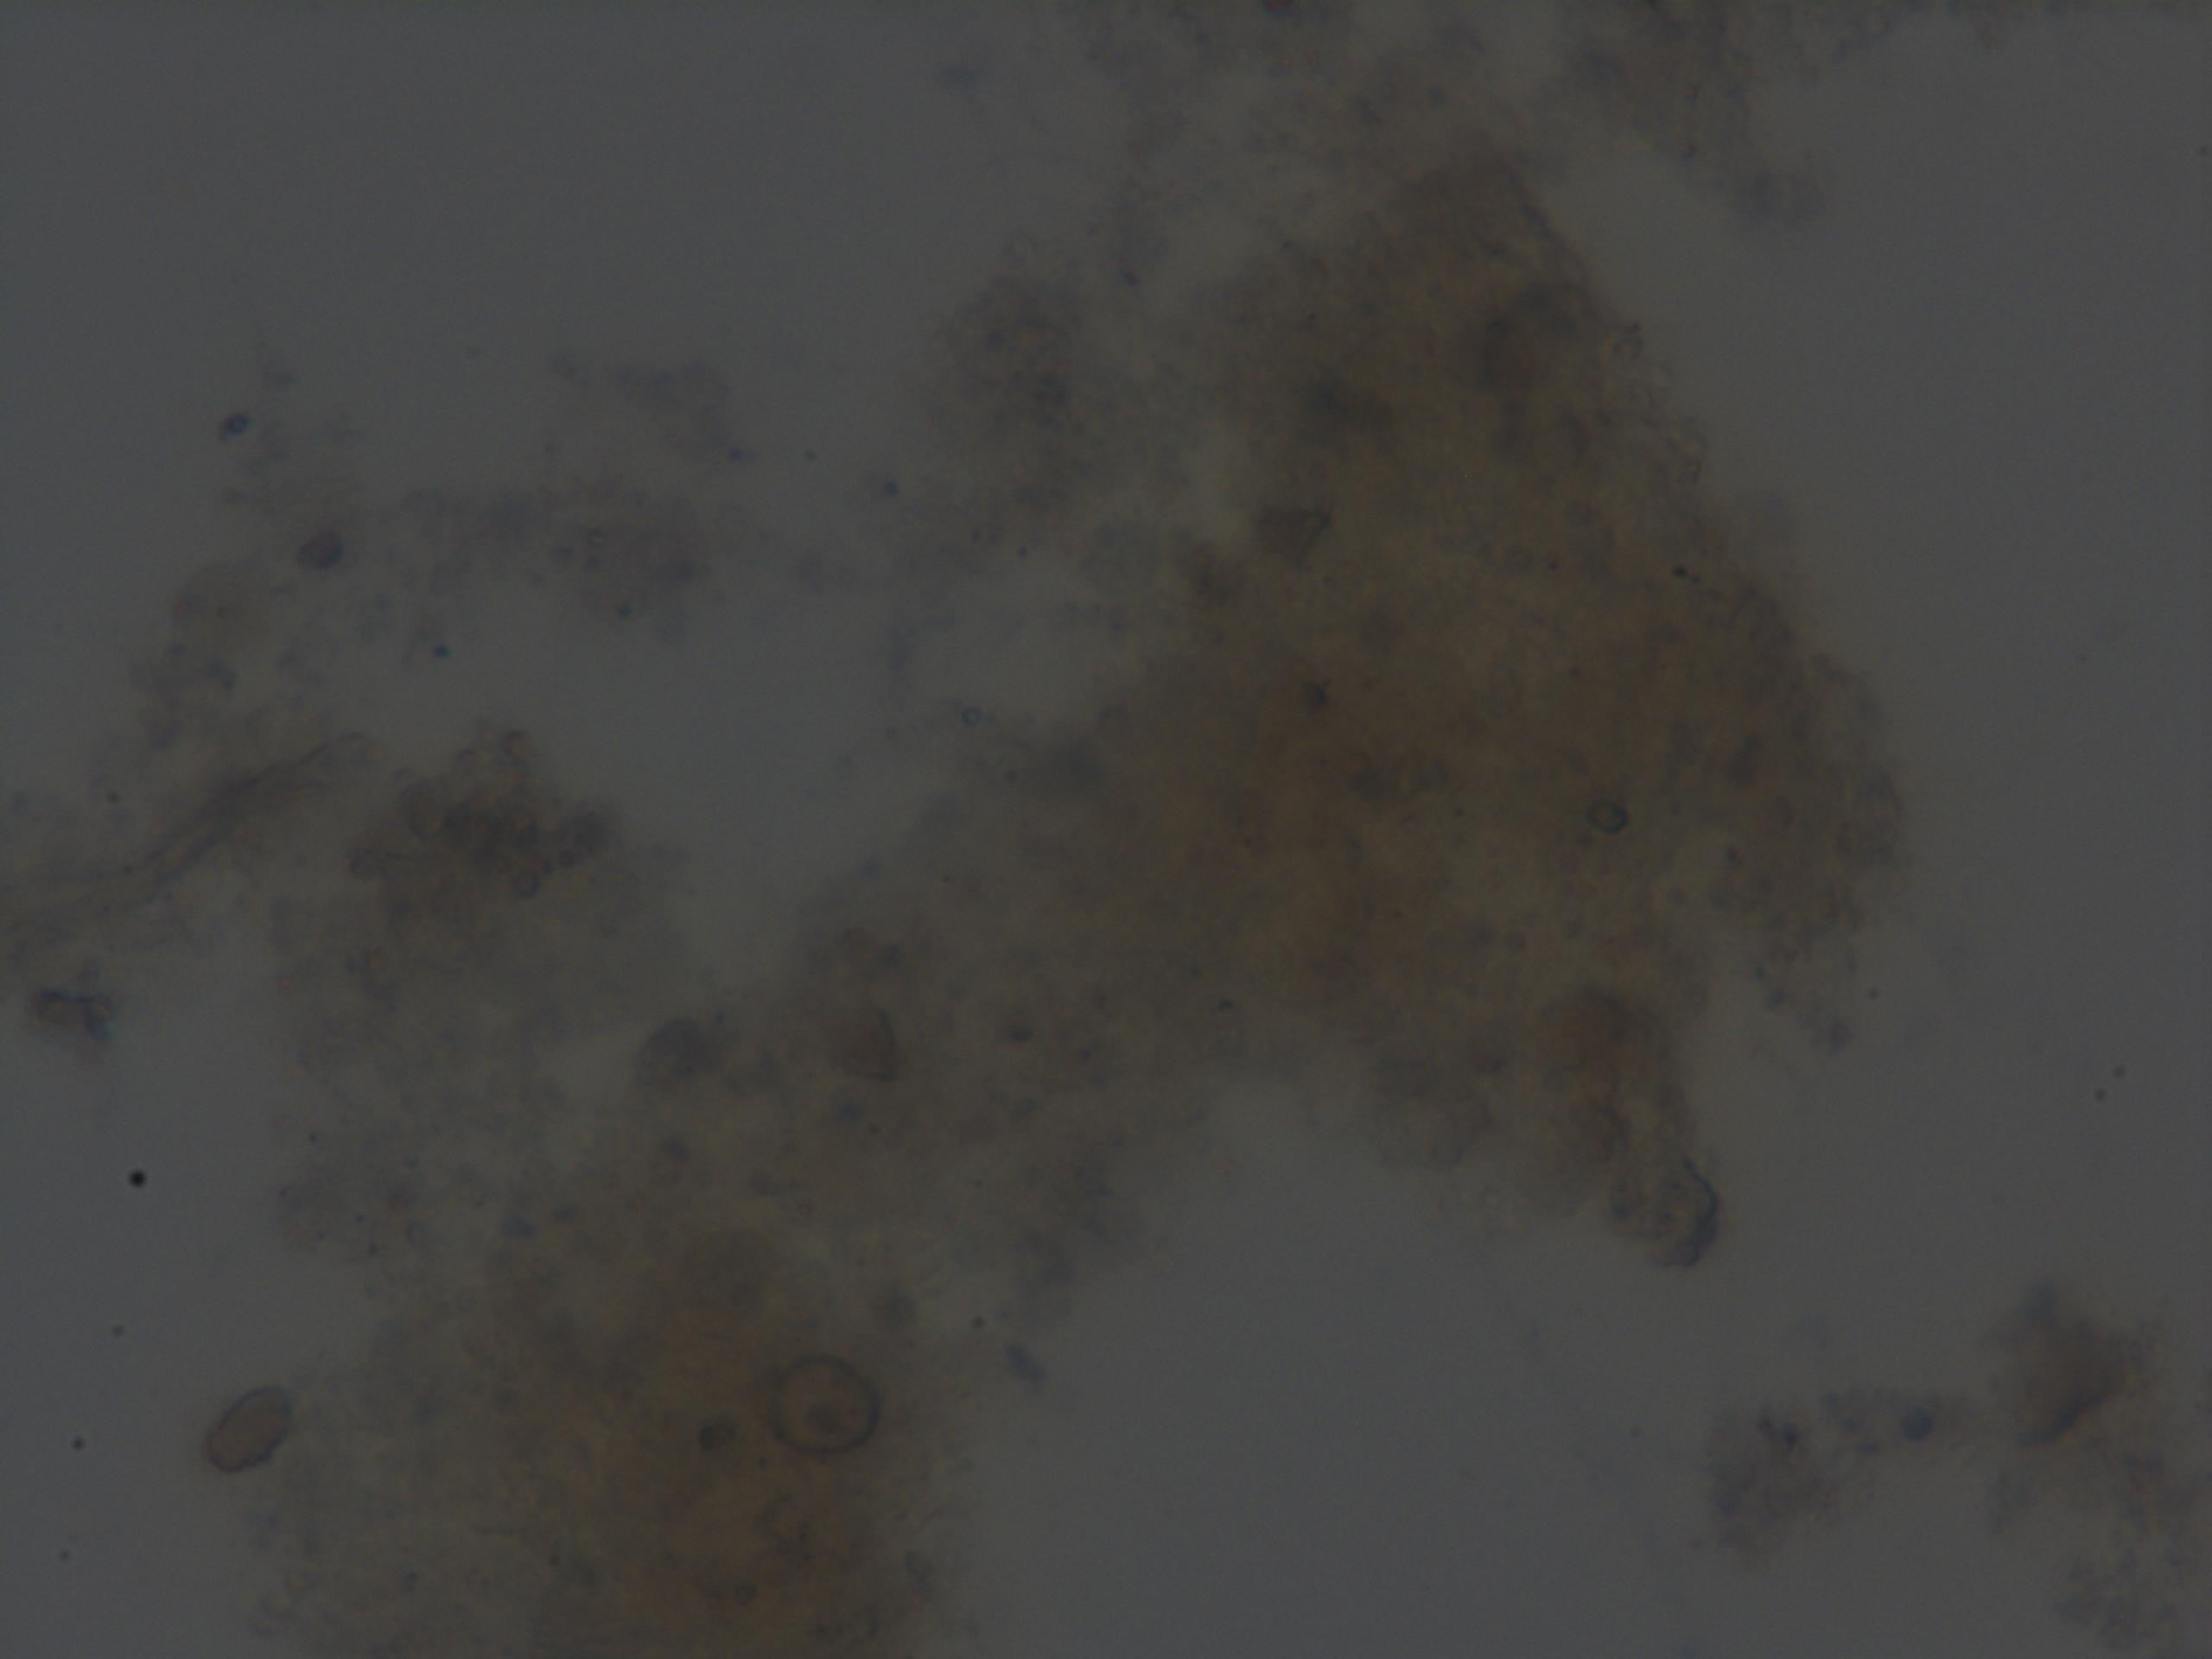open_floc: (221, 122, 1919, 1659)
